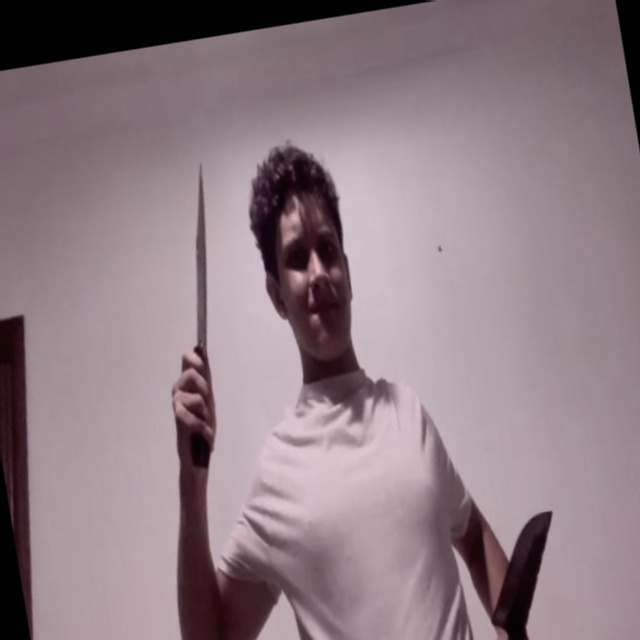Sharp-Object: (168, 165, 231, 349), (475, 508, 570, 625)
